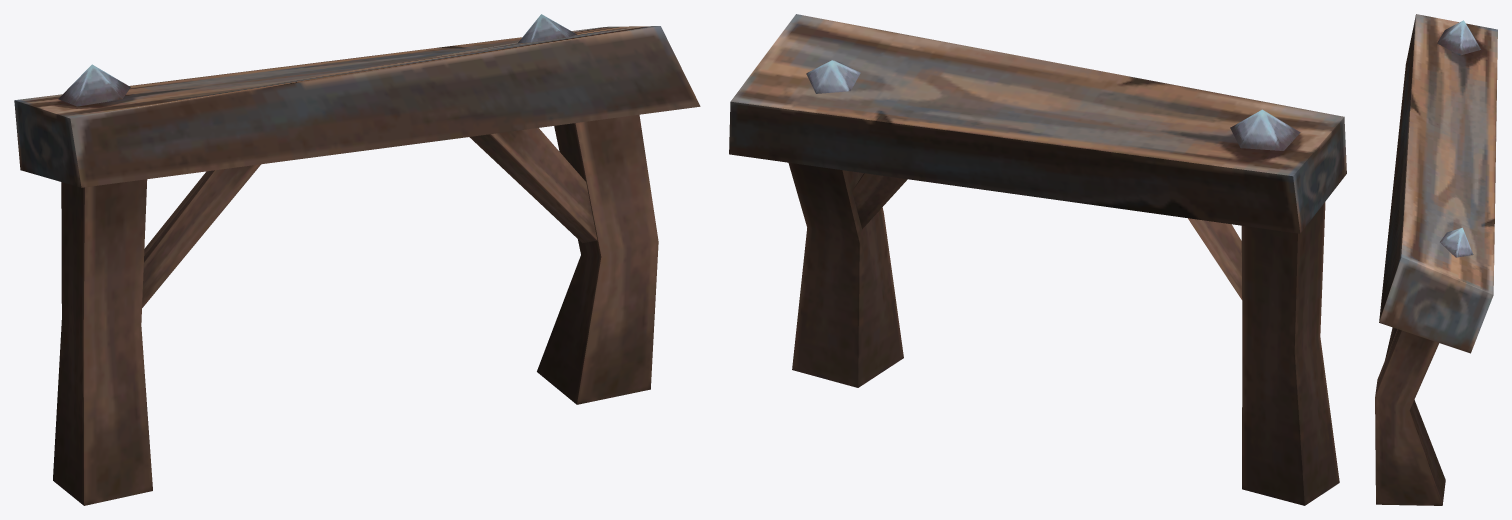
File: mine_railing_small_02.fbx
The picture shows the model from 3 angles, left to right: view 1: azimuth 30°, elevation 25°; view 2: azimuth 150°, elevation 25°; view 3: azimuth 270°, elevation 25°; orthographic projection. The views are drawn at different scales.
Parts seen in each view (by area): view 1: 13_-_Default; view 2: 13_-_Default; view 3: 13_-_Default.
Boxes of the visible parts, left/top/right/bottom form: 13_-_Default: left=14, top=14, right=700, bottom=505; 13_-_Default: left=729, top=14, right=1346, bottom=505; 13_-_Default: left=1375, top=14, right=1497, bottom=505.
Bounding box in the file's own units: 2.41 × 1.53 × 0.5646.
